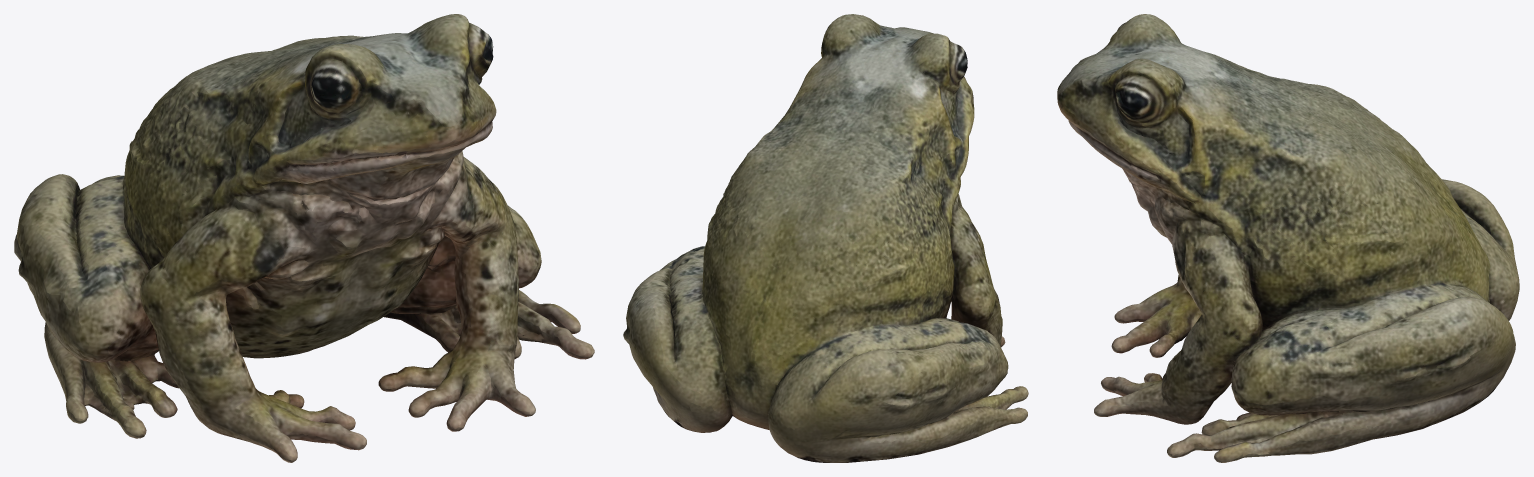
Rendered from green-frog-v21.glb.
3 views of the same model, side by side, from view 1: azimuth 30°, elevation 25°; view 2: azimuth 150°, elevation 25°; view 3: azimuth 270°, elevation 25° (orthographic). The views are drawn at different scales.
Parts seen in each view (by area): view 1: geometry_0; view 2: geometry_0; view 3: geometry_0.
Boxes of the visible parts, x1=… form: geometry_0: x1=14, y1=14, x2=594, y2=462; geometry_0: x1=623, y1=14, x2=1028, y2=462; geometry_0: x1=1057, y1=14, x2=1519, y2=462.
Bounding box in the file's own units: 0.1099 × 0.088 × 0.1091.
1 material, 1 textured.
